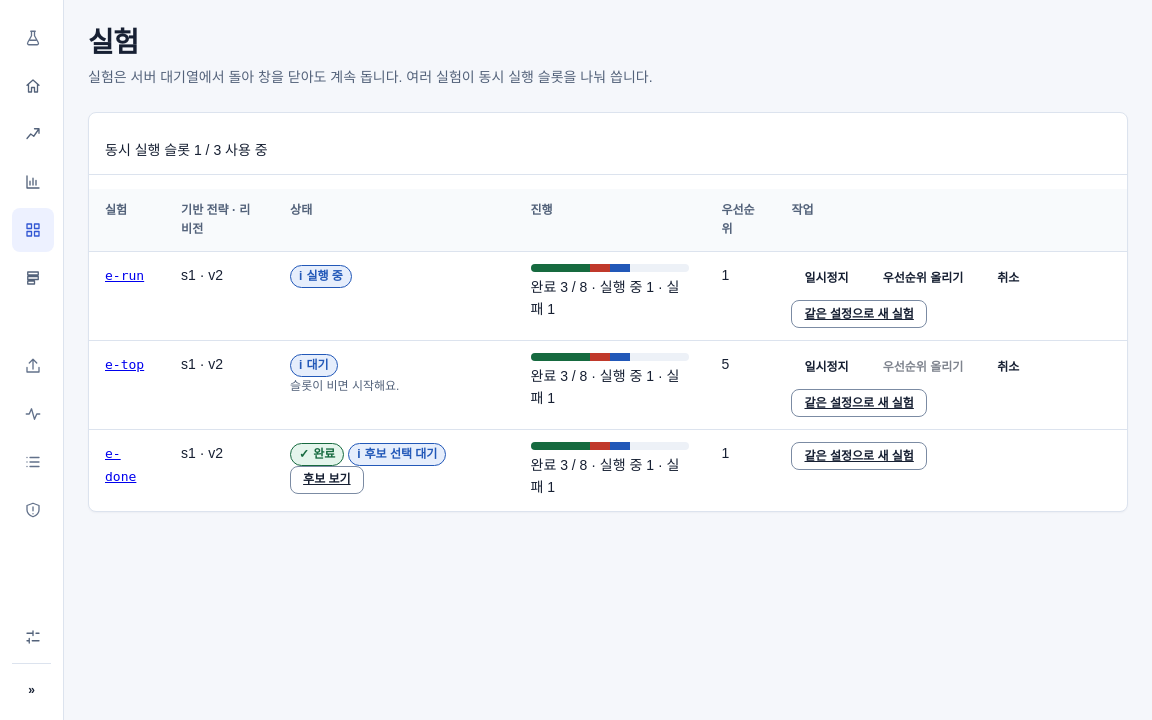
Test: experiments › translates a refused control with its code
Click the button "취소" in the row of "e-run" at (1008, 278), box x1=984 y1=264 x2=1032 y2=292
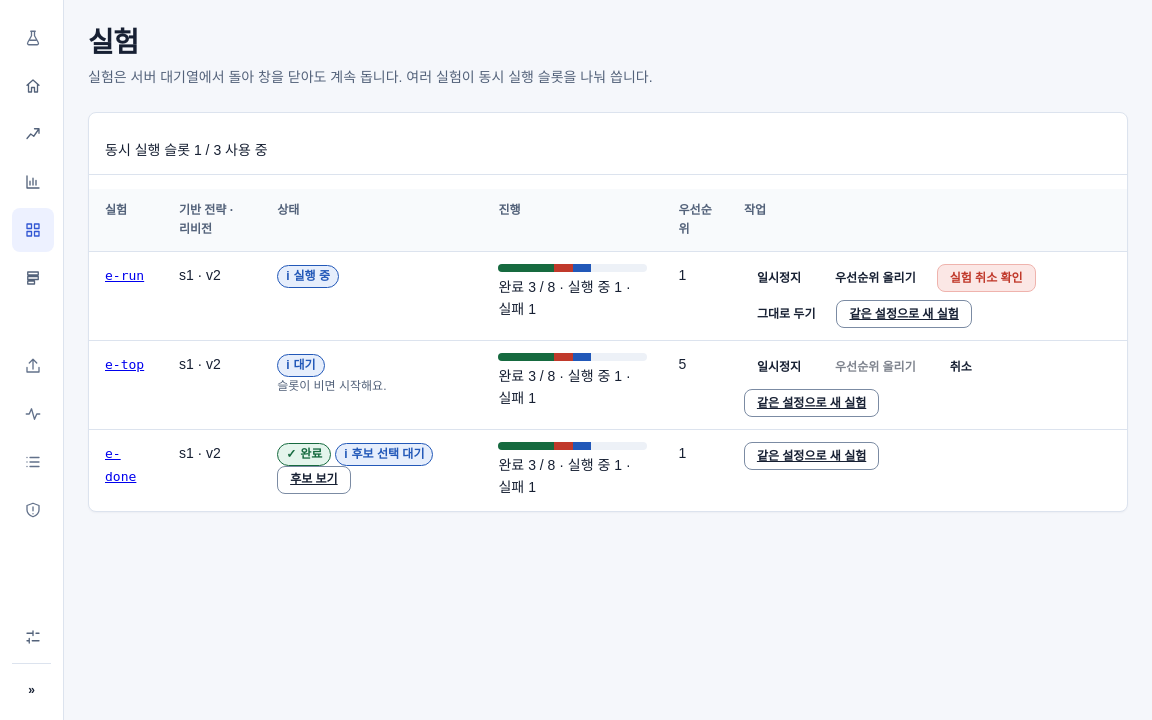
Click the button "실험 취소 확인" at (986, 278), box x1=937 y1=264 x2=1036 y2=292
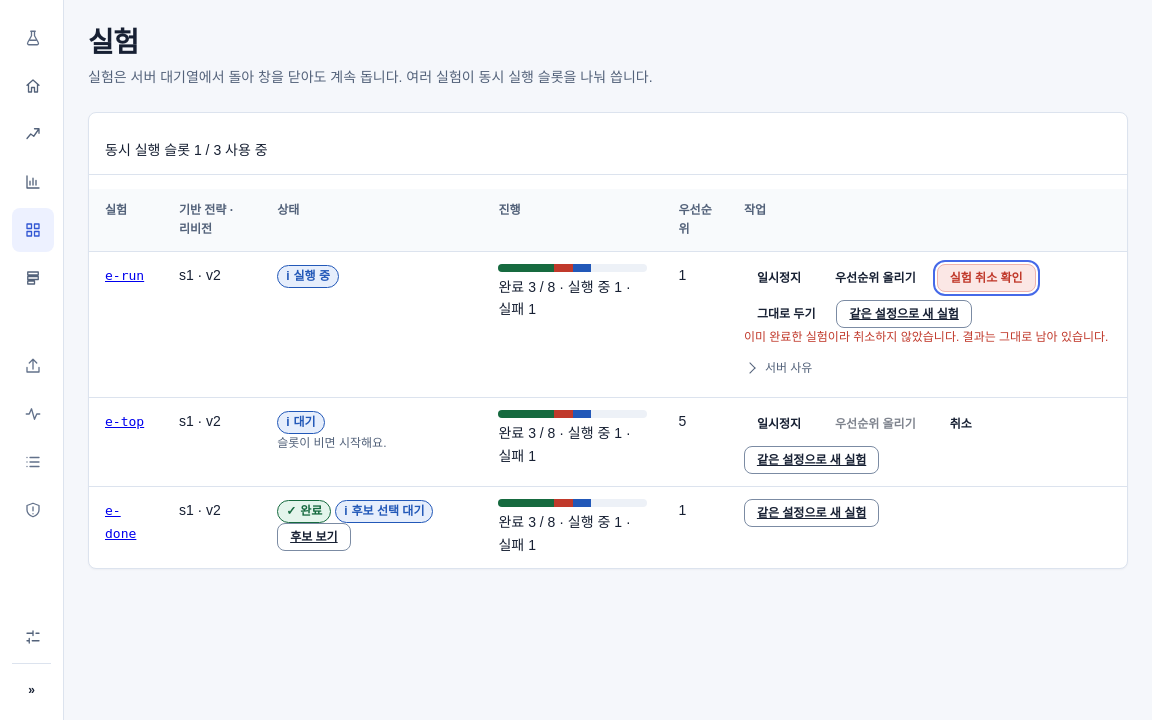
Expected: the text "이미 완료한 실험이라 취소하지 않았습니다. 결과는 그대로 남아 있습니다." is shown, x1=744 y1=330 x2=1108 y2=344
